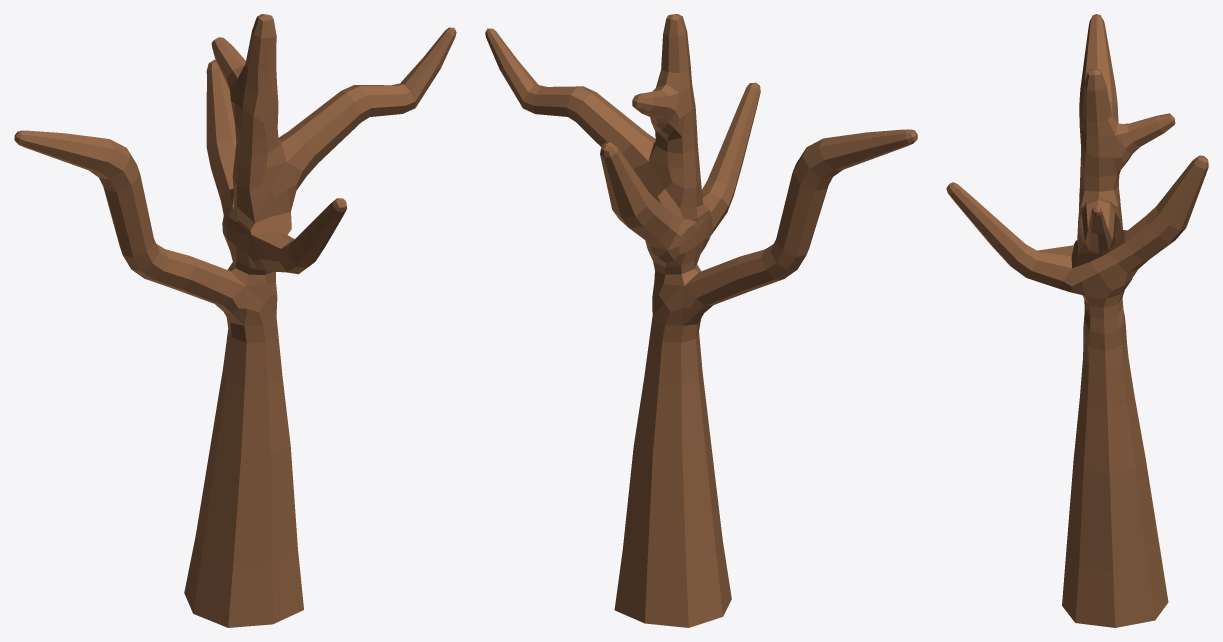
The model's file is tree-dead-trunk-029.glb.
3 renders of one model, left to right at view 1: azimuth 30°, elevation 25°; view 2: azimuth 150°, elevation 25°; view 3: azimuth 270°, elevation 25°, orthographic. The views are drawn at different scales.
Visible parts, largest first — view 1: Plane.077_486; view 2: Plane.077_486; view 3: Plane.077_486.
Part boxes in pixels (x1=…): Plane.077_486: x1=14, y1=14, x2=456, y2=627; Plane.077_486: x1=485, y1=14, x2=917, y2=627; Plane.077_486: x1=946, y1=14, x2=1208, y2=627.
Size of the model in its own units: 0.7837 by 1.01 by 0.4442.
